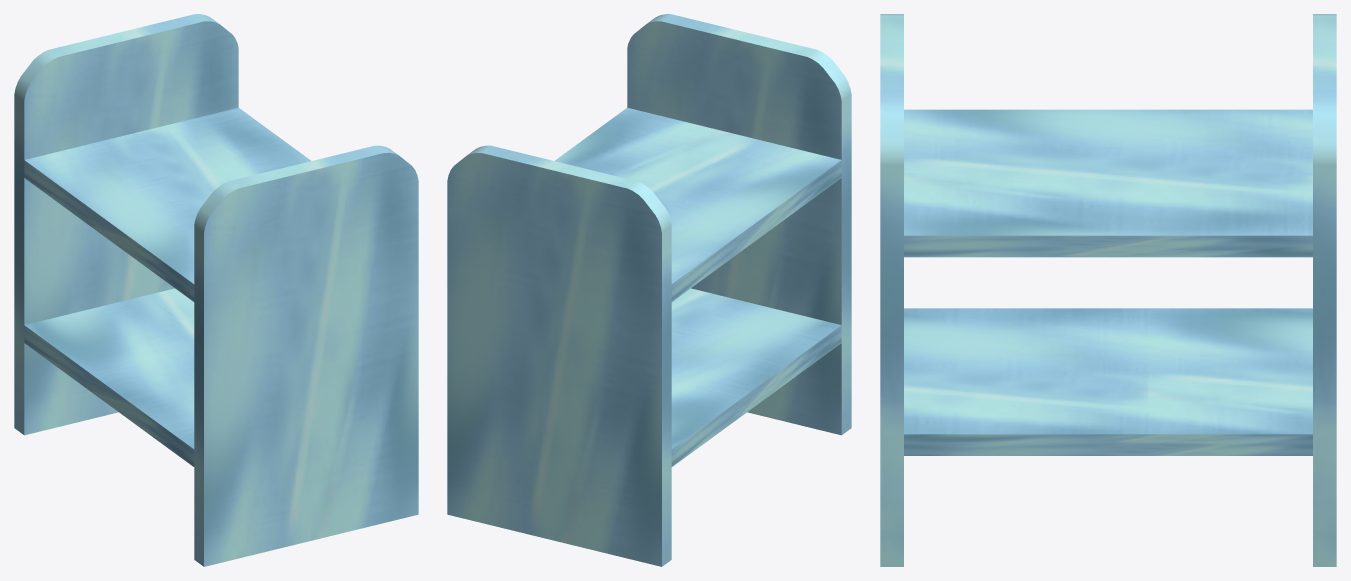
Rendered from ExportTubeStand.FBX.
3 renders of one model, left to right at view 1: azimuth 30°, elevation 25°; view 2: azimuth 150°, elevation 25°; view 3: azimuth 270°, elevation 25°, orthographic. The views are drawn at different scales.
Parts seen in each view (by area): view 1: Box007; view 2: Box007; view 3: Box007.
Part boxes in pixels (x1=…): Box007: x1=14, y1=14, x2=418, y2=566; Box007: x1=447, y1=14, x2=851, y2=566; Box007: x1=880, y1=14, x2=1336, y2=566.
Size of the model in its own units: 4.73 by 7.25 by 7.8.
